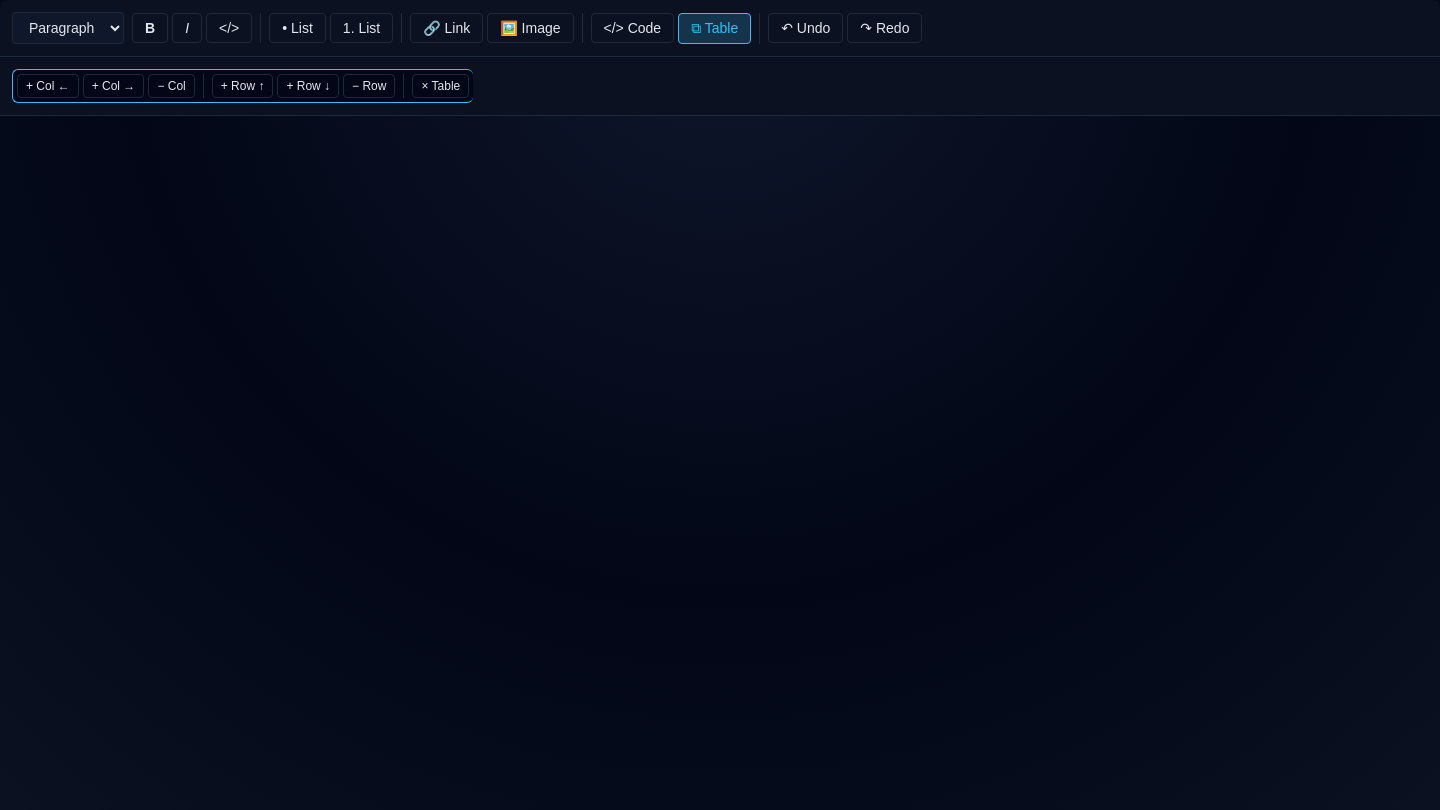
EditorToolbar › opens link dialog when link button is clicked
Step 1. Click the button titled "Insert Link" → [447, 28], box x1=410 y1=13 x2=483 y2=43
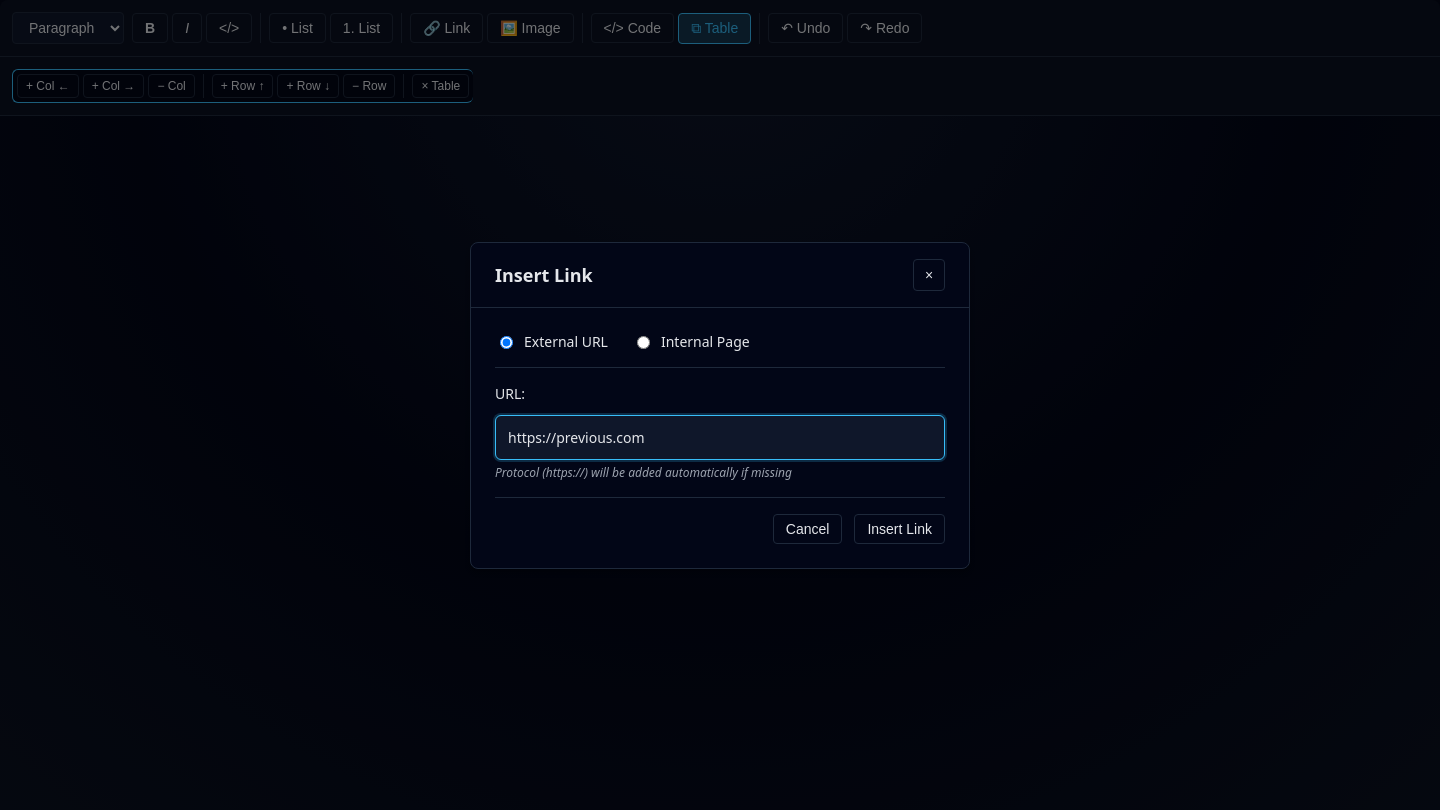
Expected: the heading "Insert Link" is shown, x1=495 y1=262 x2=593 y2=286
Expected: the field with placeholder "https://example.com or www.example.com" holds "https://previous.com", x1=495 y1=414 x2=945 y2=460
